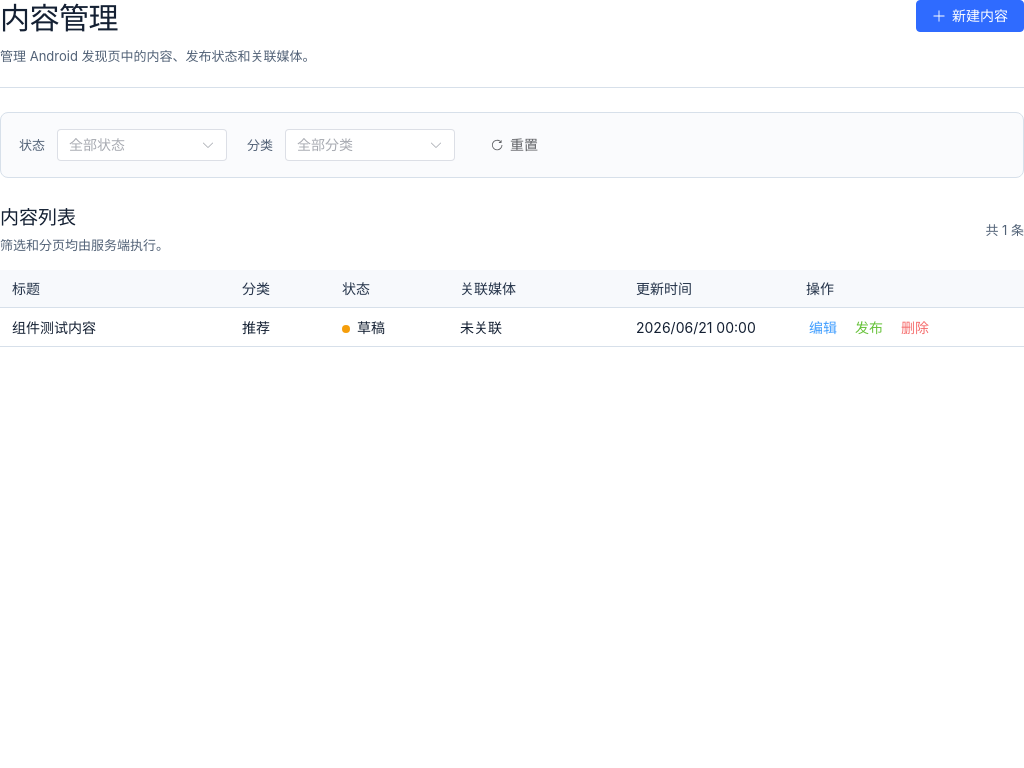
Scenario: content management view › opens the content form and maps server field errors
Click the button "新建内容". click: point(970, 16)
box: [916, 0, 1023, 32]
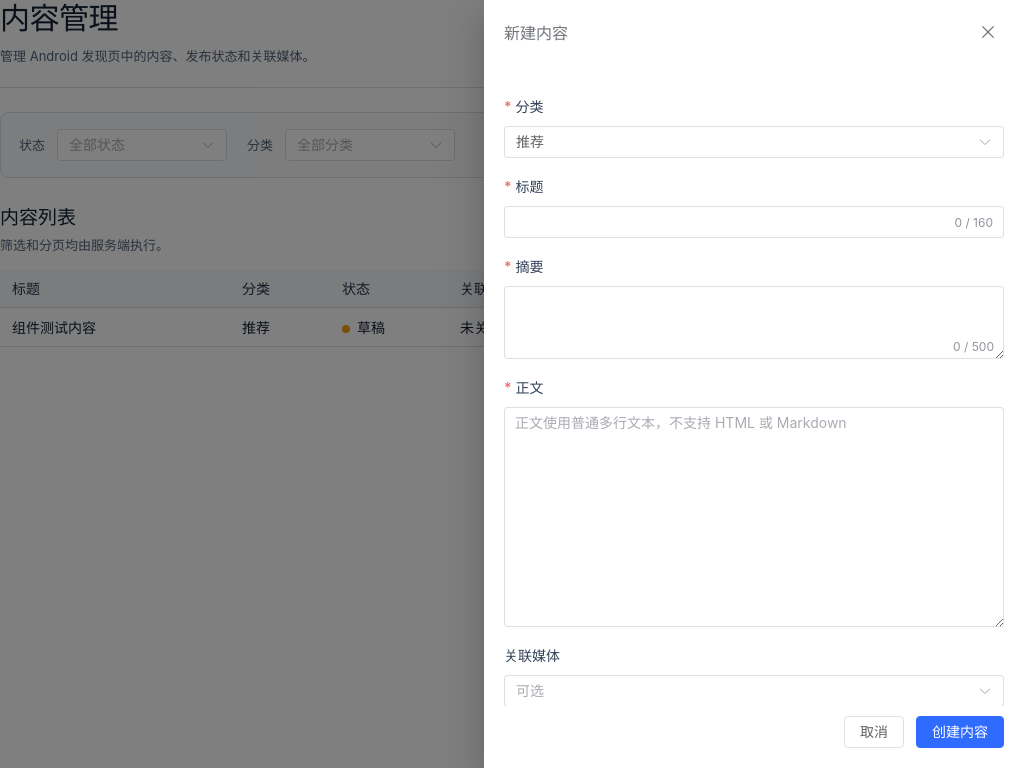
Type "有效标题" into the field labelled "标题". click: point(727, 222)
box: [515, 207, 938, 237]
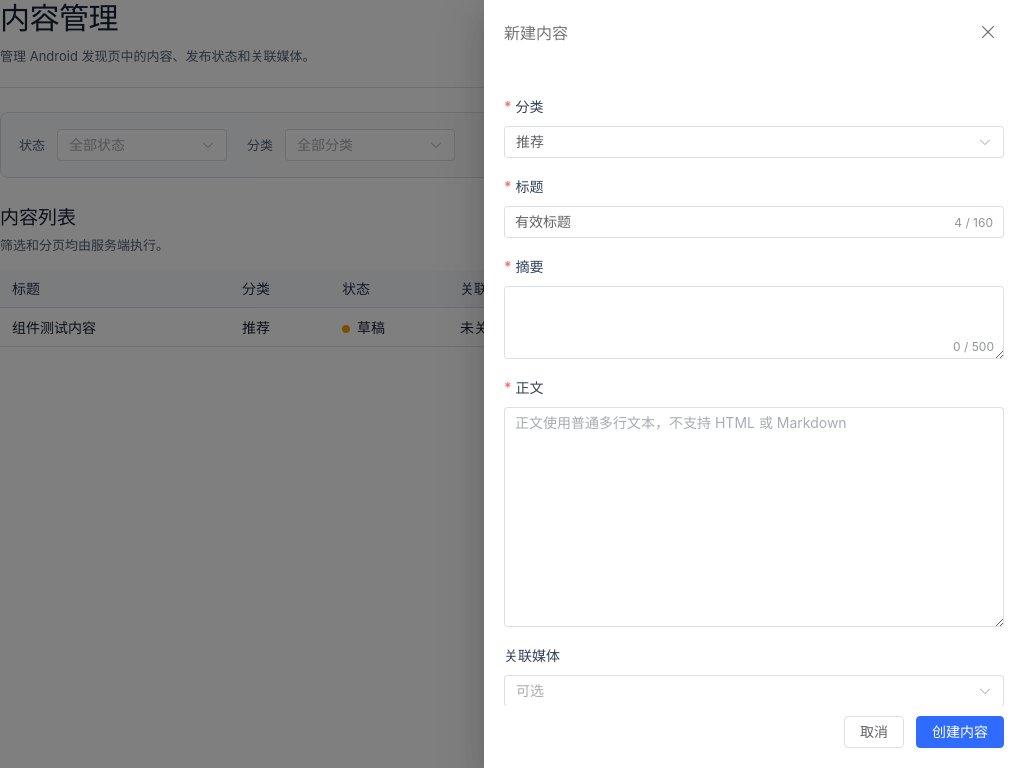
Type "有效摘要" into the text box labelled "摘要". click: point(754, 322)
box: [504, 286, 1004, 359]
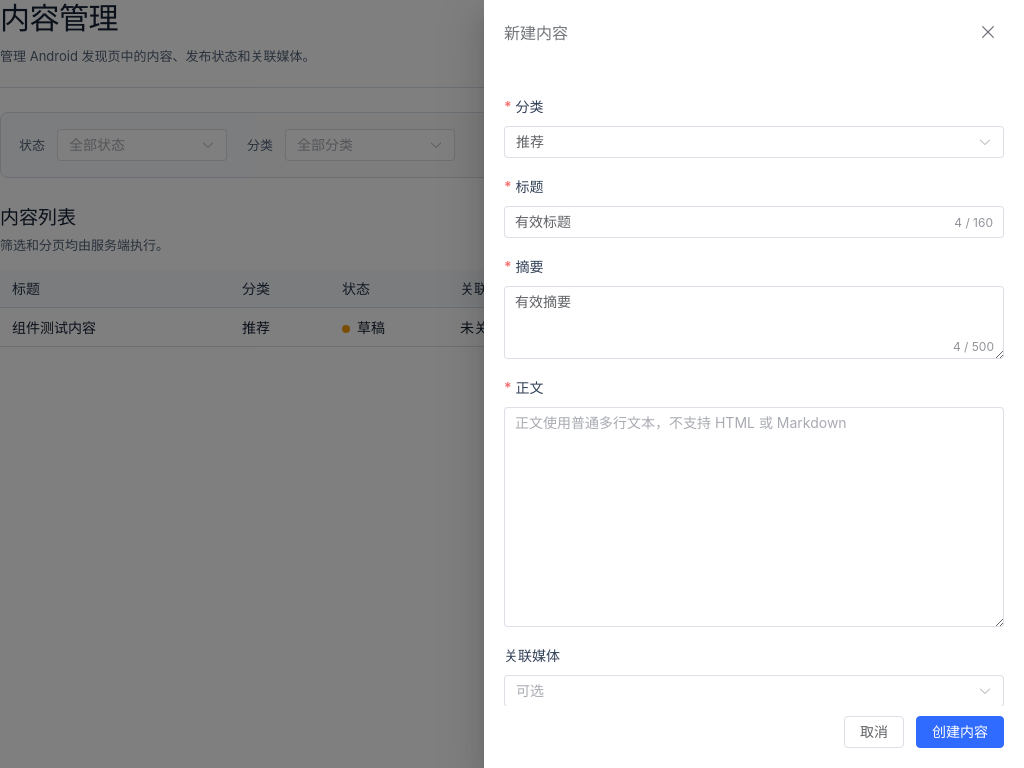
Type "有效正文" into the text box labelled "正文". click: point(754, 517)
box: [504, 407, 1004, 627]
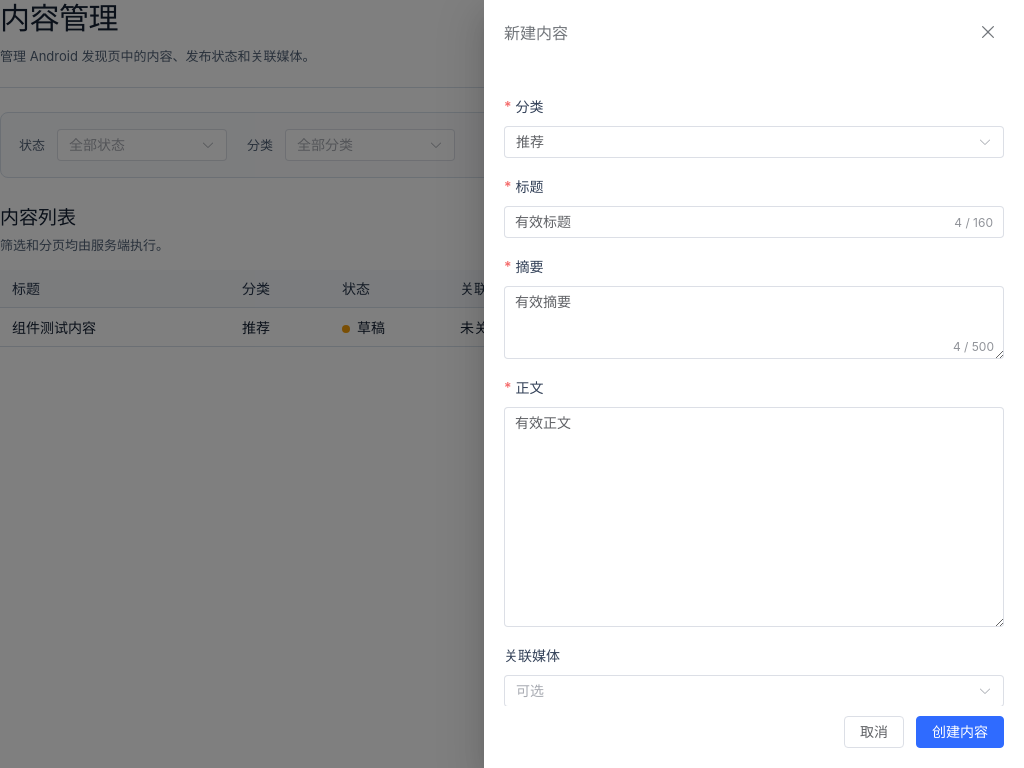
Click the button "创建内容". click: point(960, 732)
box: [916, 716, 1004, 748]
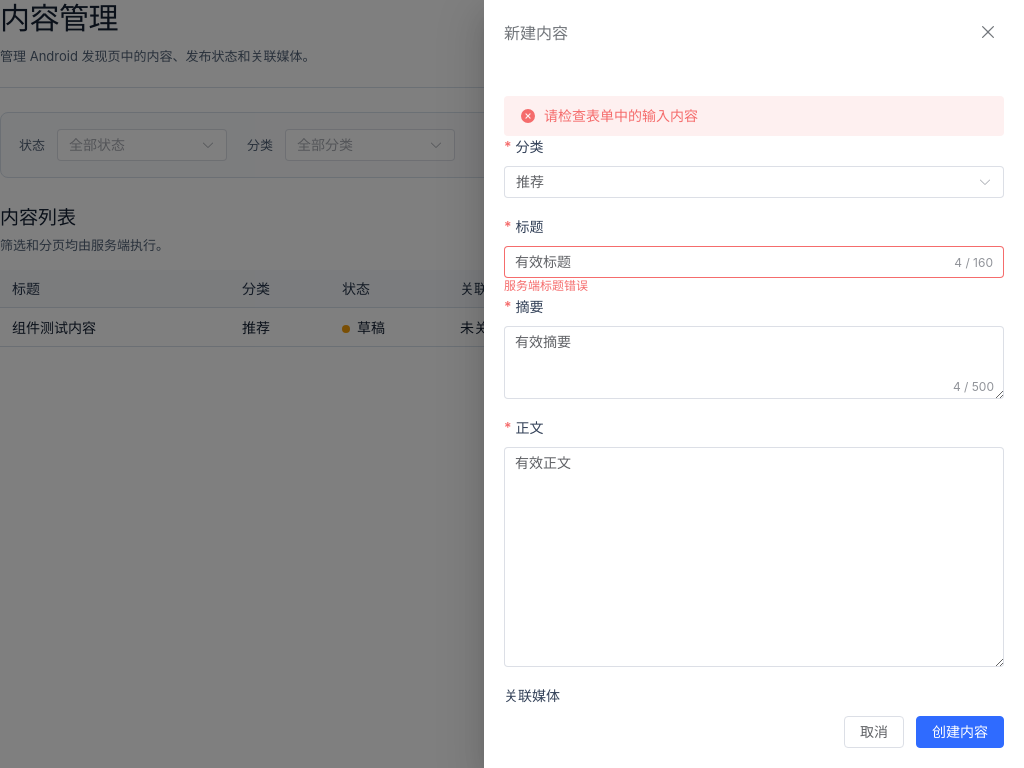
Result: the text "服务端标题错误" is shown at [504, 278, 588, 292]
